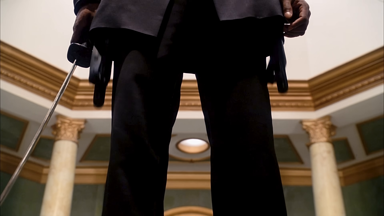bladed_weapon: (1, 35, 92, 207)
